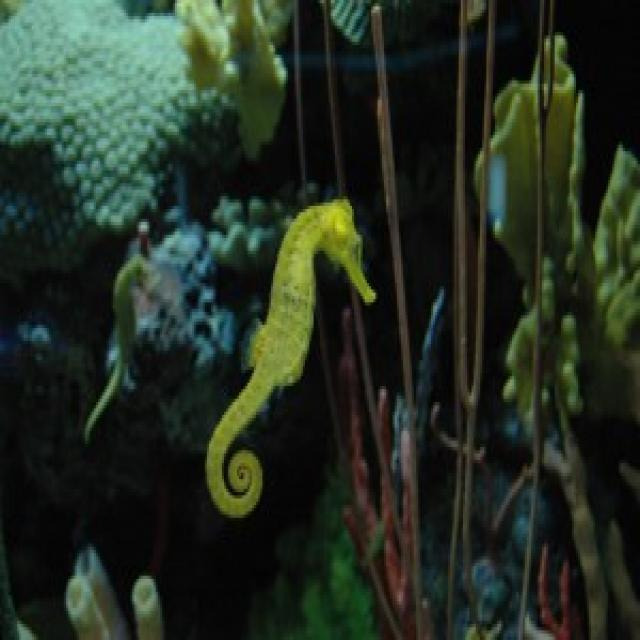Seahorse: (197, 194, 378, 530)
